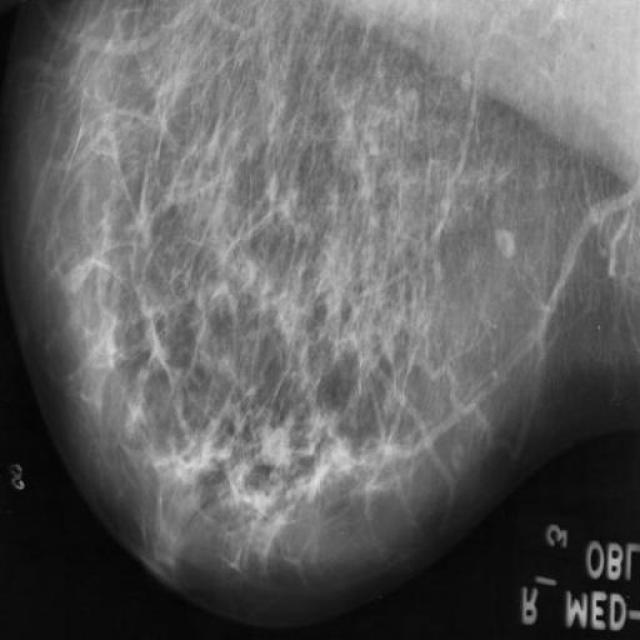cancer: (202, 440, 336, 574)
